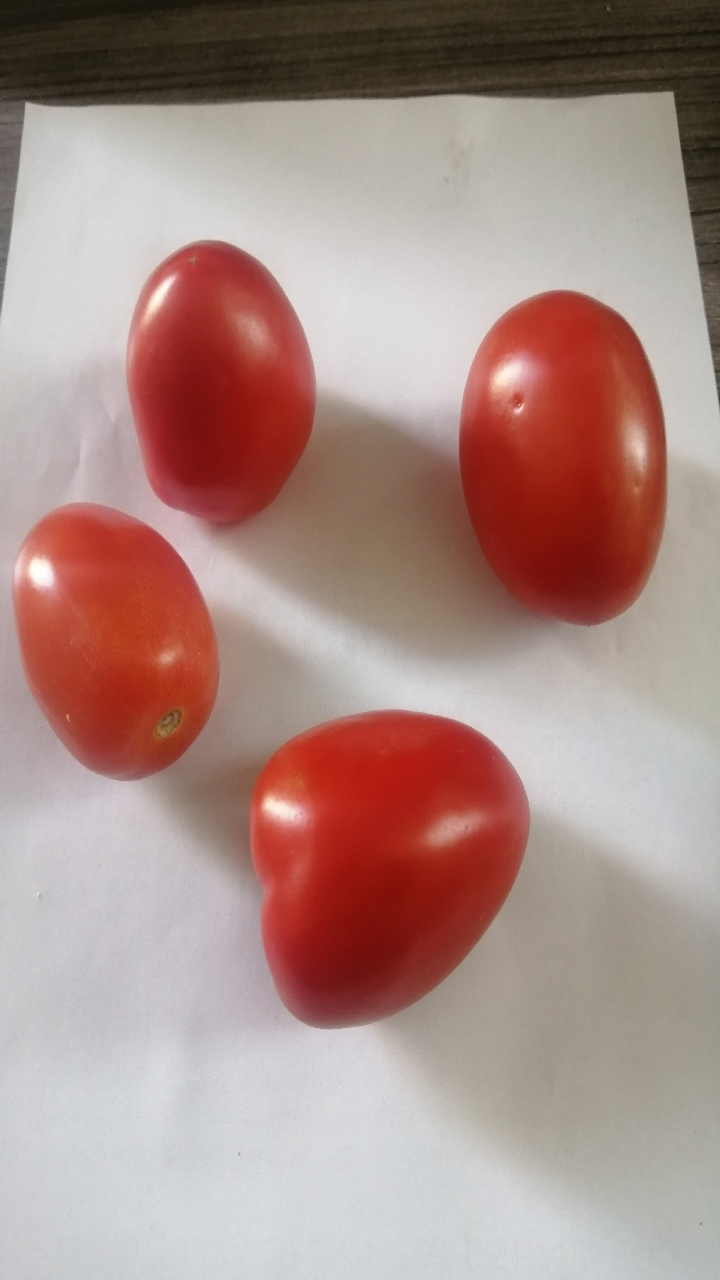tomateRojo: (232, 692, 554, 1059), (434, 268, 691, 646), (98, 215, 343, 543), (1, 486, 229, 802)
